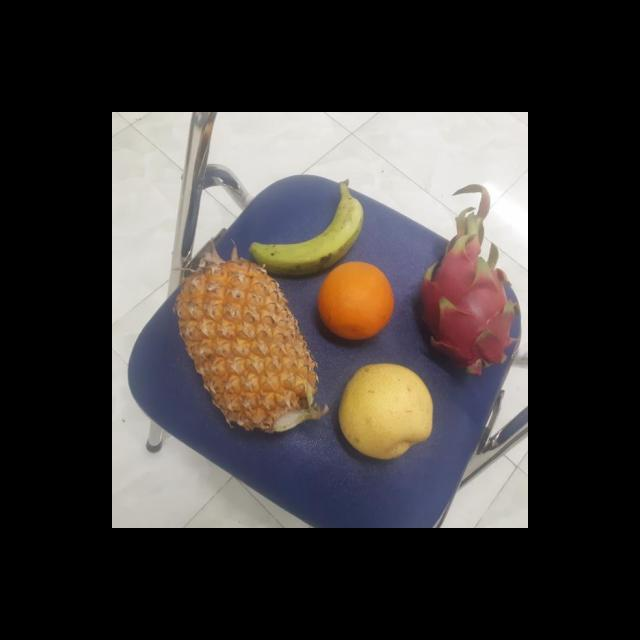banana: (242, 176, 362, 276)
orange: (314, 262, 396, 341)
pear: (334, 365, 433, 460)
pineapple: (171, 262, 321, 432)
pitaya: (409, 240, 518, 378)
